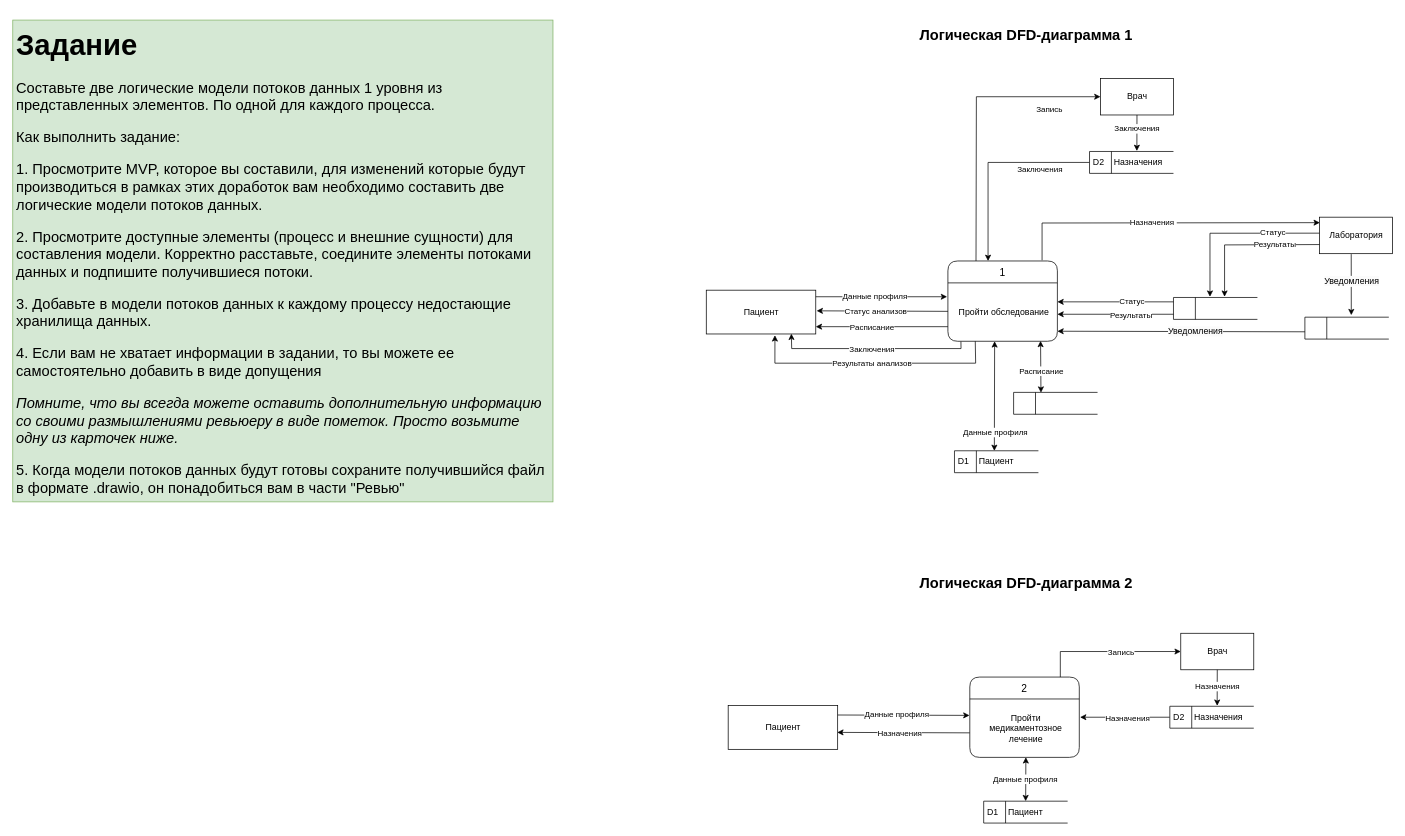
The diagram is 1405 pixels wide and 836 high, and some of its shapes have lost their labels. Here are the shapes that lost their labels. From the top down, the centre of each, then its label:
At point 1215,308: "D3 Анализы".
At point 1346,327: "D5 Уведомления".
At point 1055,403: "D4 Расписания".
